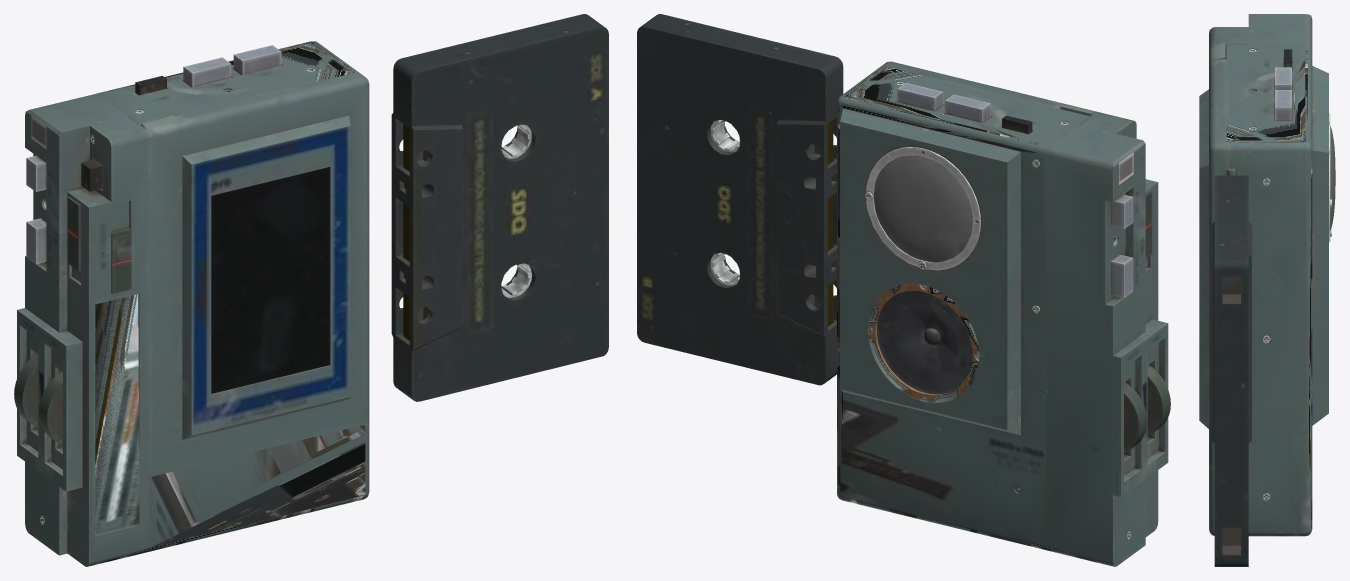
File: portable_cassette_player.glb
3 renders of one model, left to right at view 1: azimuth 30°, elevation 25°; view 2: azimuth 150°, elevation 25°; view 3: azimuth 270°, elevation 25°, orthographic. The views are drawn at different scales.
Visible parts, largest first — view 1: portable_cassette_player_lid; view 2: portable_cassette_player_lid; view 3: portable_cassette_player_lid.
Boxes of the visible parts, x1,y1,x2,y2 form: portable_cassette_player_lid: (14,14,608,566); portable_cassette_player_lid: (637,14,1170,566); portable_cassette_player_lid: (1199,14,1335,566).
Size of the model in its own units: 0.1723 by 0.1303 by 0.0397.
Materials: 2 (2 with a texture image).
